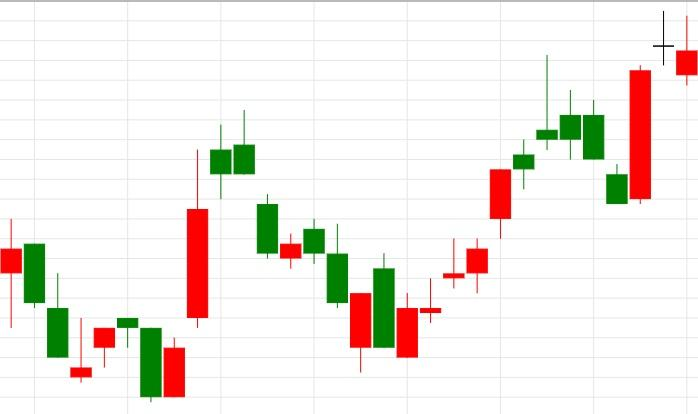bullish_engulfing_rise: (536, 55, 652, 205)
